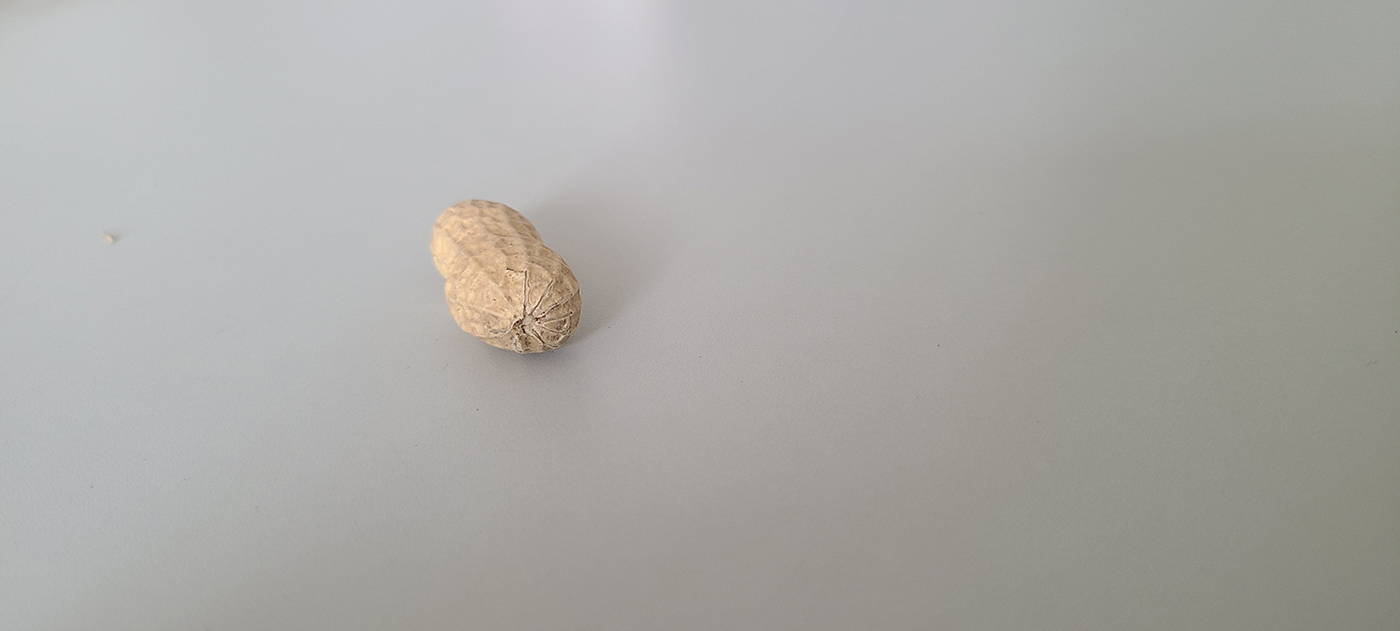h: (428, 197, 579, 352)
